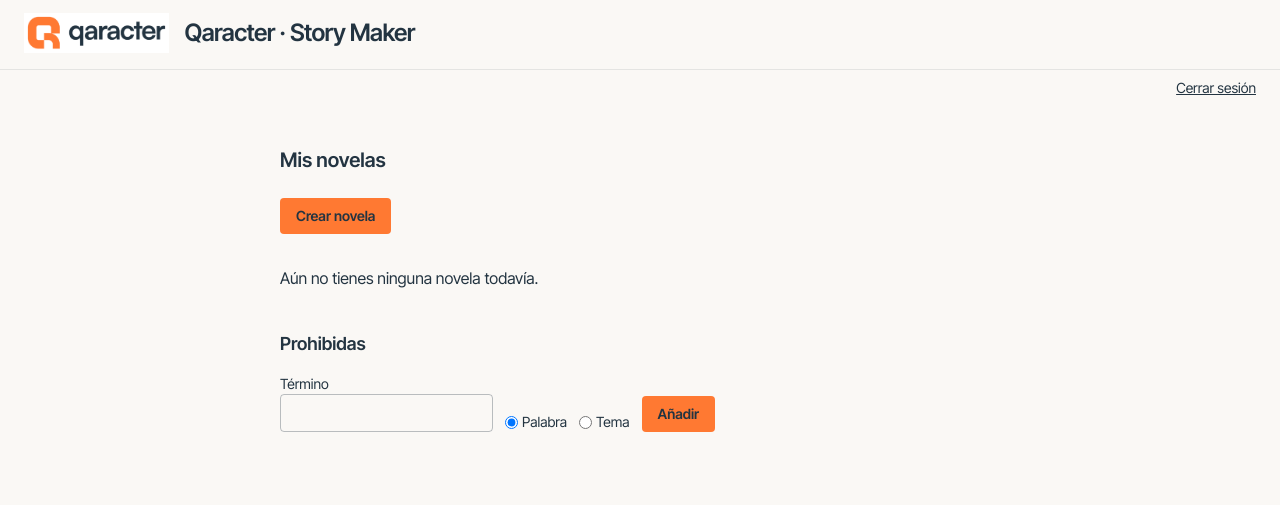
it: 023 lista prohibida de nivel user › 023-C11: adding a word shows up in the list right away, and clears the field
Type "Cristina" into the field labelled "Término". click: (386, 413)
box: [280,394,493,432]
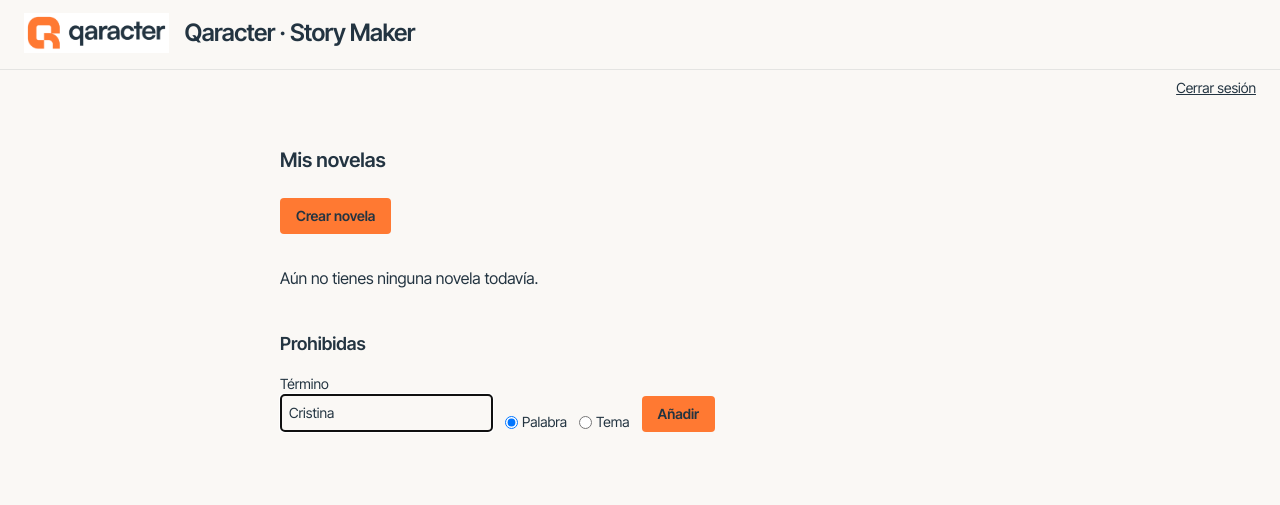
Click the button "Añadir". click: (678, 414)
box: [642,396,715,432]
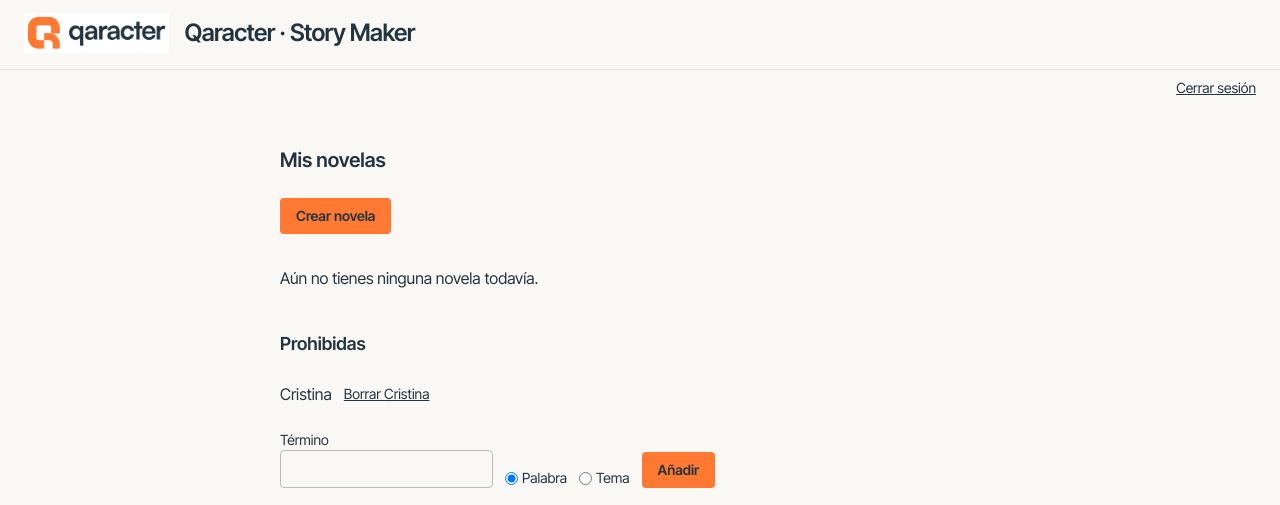
Check: the field labelled "Término" is empty, box [280,450,493,488]
Check: the text "Cristina" is shown, box [280,382,332,406]
